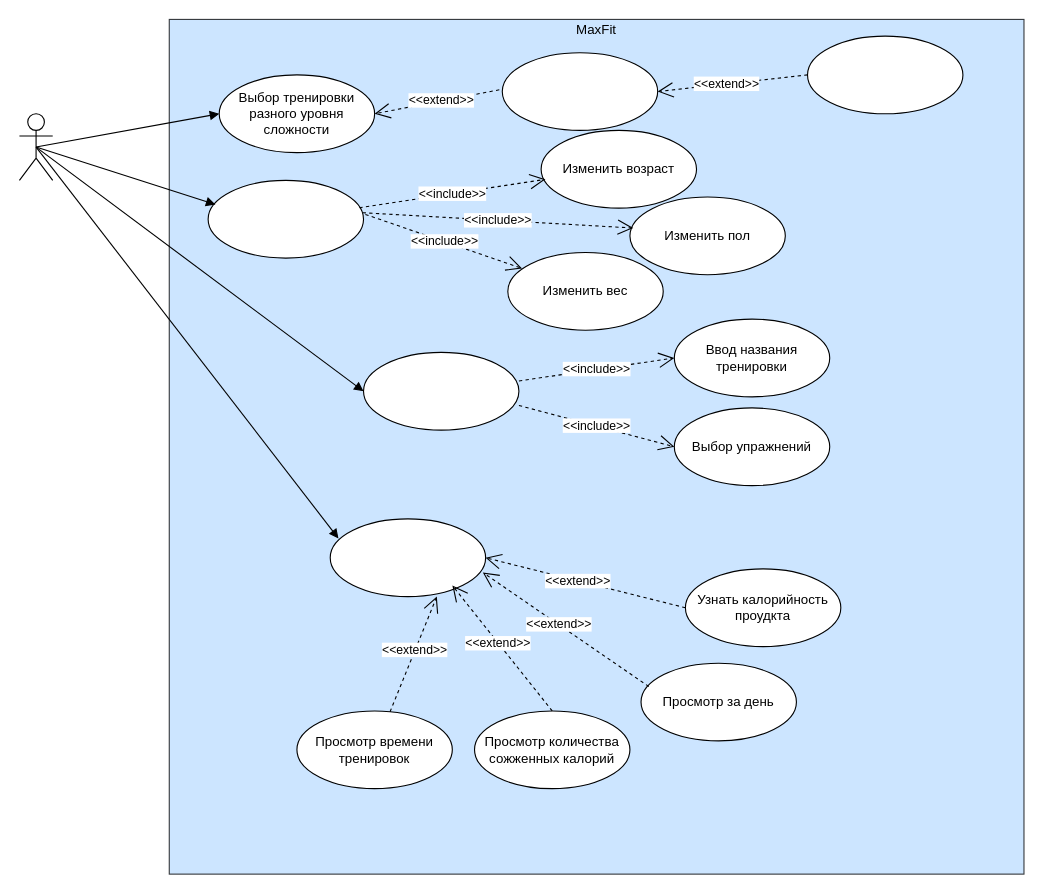
The diagram is 1043 pixels wide and 894 high, and some of its shapes have lost their labels. Each missing label, with the box of its shape:
User: (18, 113, 53, 180)
Выбор тренировки на разные группы мышц: (501, 52, 658, 130)
Добавить свою треировку: (362, 351, 519, 430)
Посмотреть статистику: (329, 518, 486, 597)
Посчитать калории: (207, 179, 364, 258)
Пропуск упражнения: (806, 35, 963, 114)
